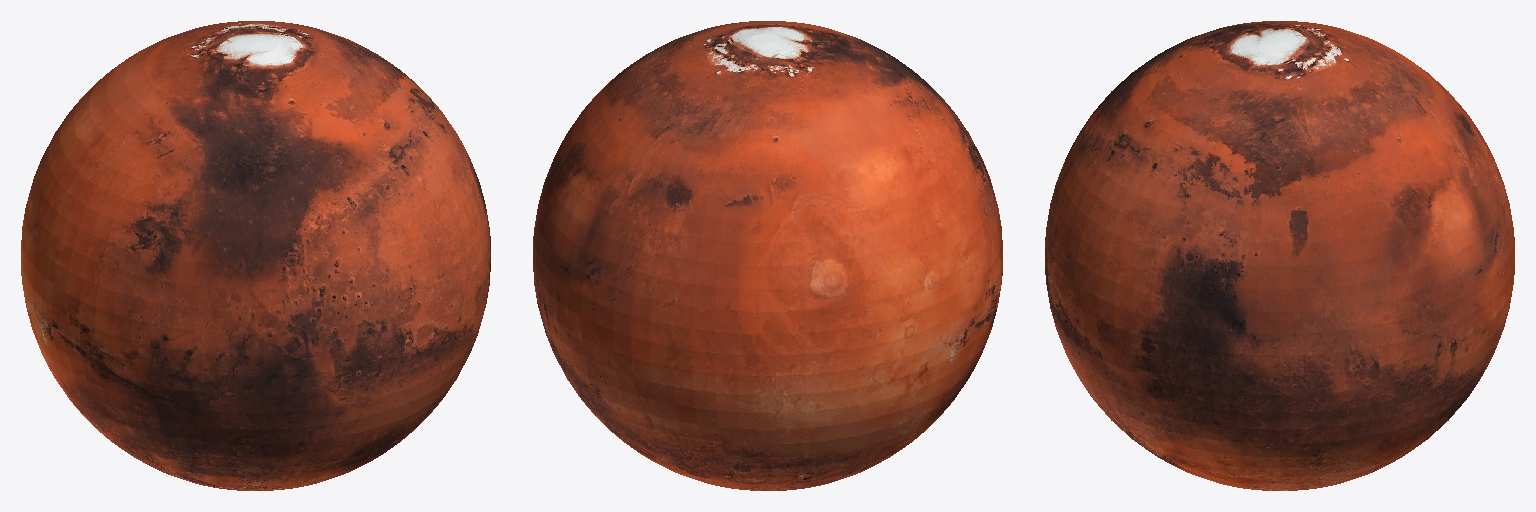
The picture shows the model from 3 angles: view 1: azimuth 30°, elevation 25°; view 2: azimuth 150°, elevation 25°; view 3: azimuth 270°, elevation 25°; orthographic projection.
Visible parts, largest first — view 1: Sphere002; view 2: Sphere002; view 3: Sphere002.
Boxes of the visible parts, box(x1,y1,x2,y2) form: Sphere002: box(21, 21, 490, 490); Sphere002: box(533, 21, 1002, 490); Sphere002: box(1045, 21, 1514, 490).
Bounding box in the file's own units: 702 × 702 × 702.
Materials: 2 (1 with a texture image).